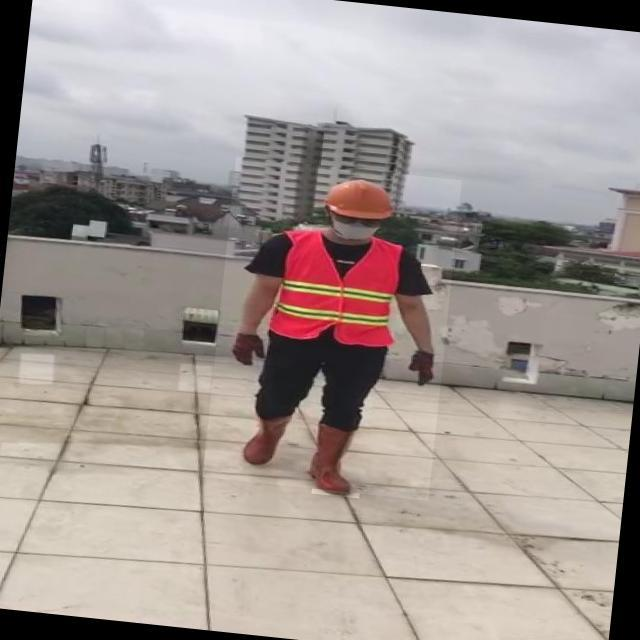Gloves: (231, 331, 270, 366), (408, 349, 440, 389)
Helmet: (321, 172, 401, 224)
Human: (203, 157, 463, 501)
Safety Boot: (311, 421, 366, 498), (228, 411, 295, 469)
Safety Vest: (272, 230, 407, 348)
